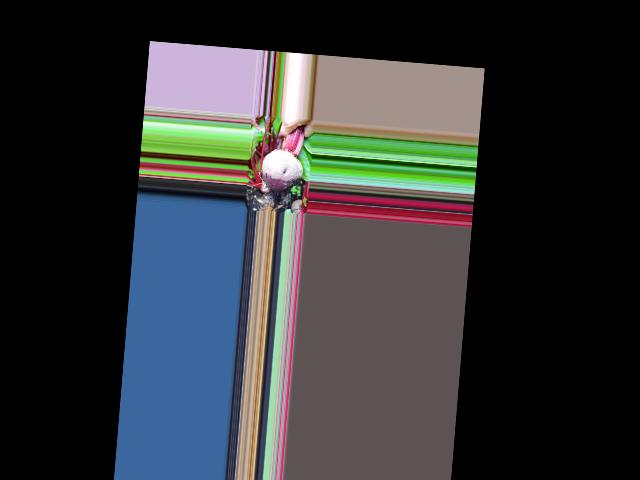beet: (258, 121, 306, 214)
